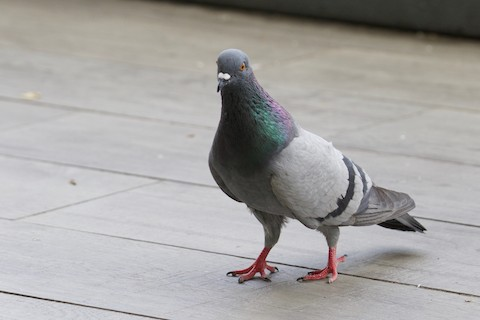pigeon: (200, 47, 428, 292)
